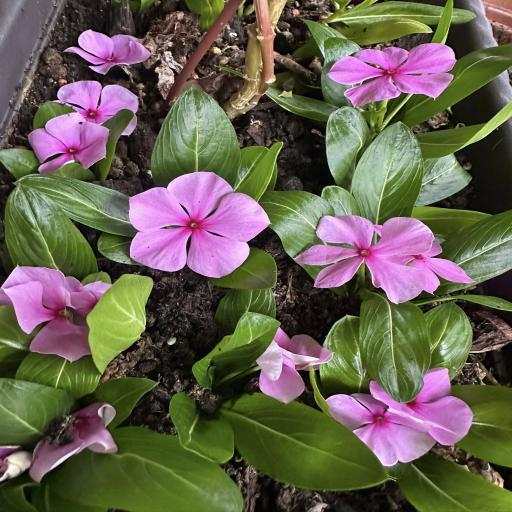Periwinkle: (119, 171, 277, 282), (289, 208, 439, 310), (320, 38, 467, 114), (23, 114, 120, 176)
